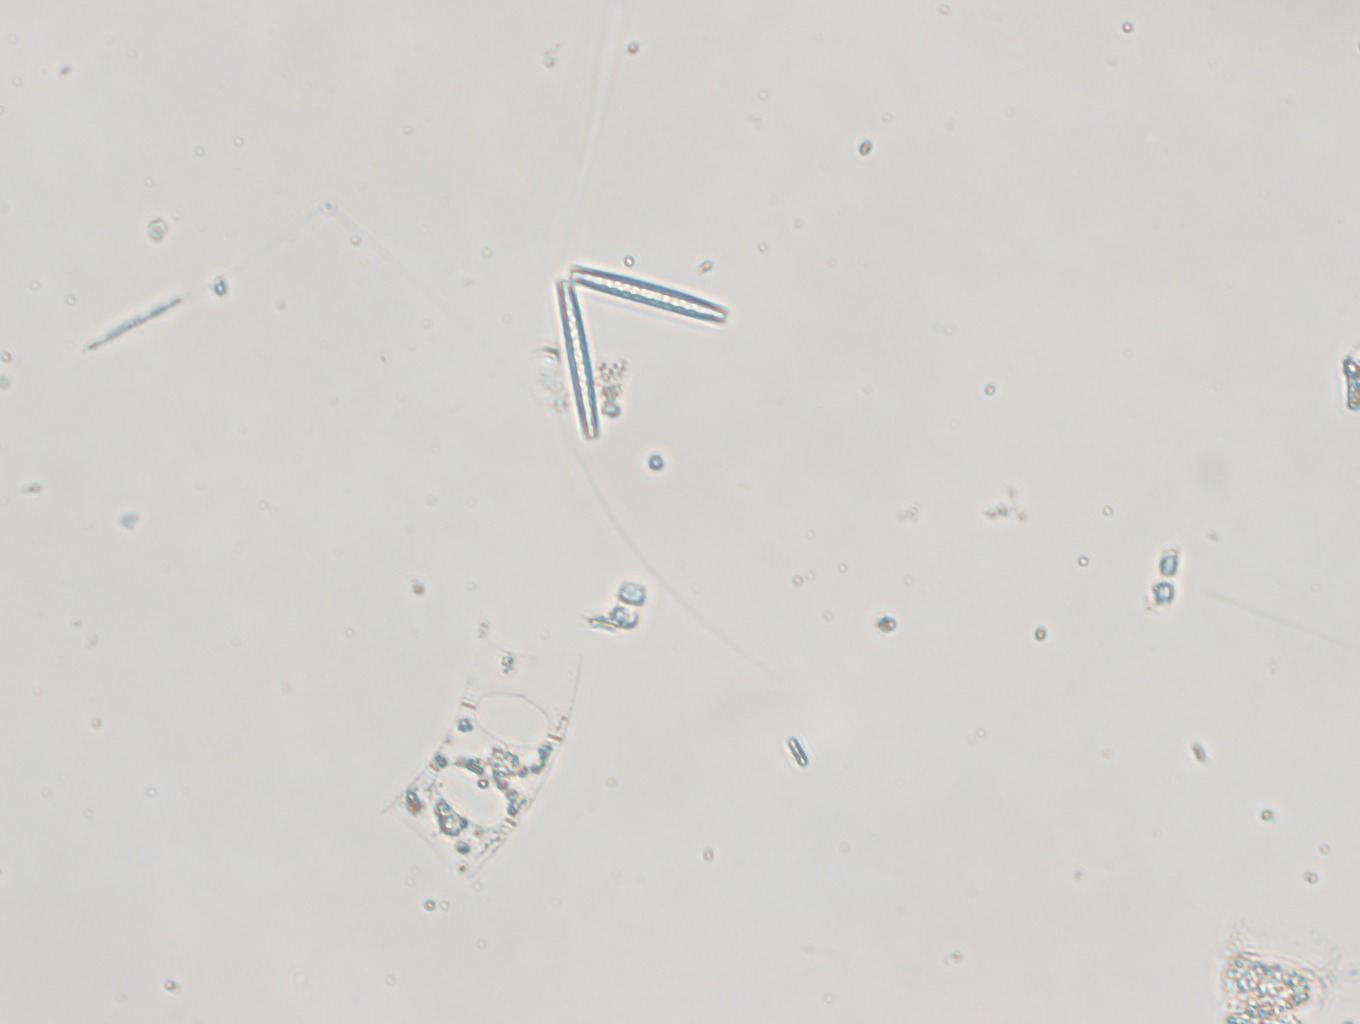eucampia: (376, 622, 584, 884)
thalassionema nitzschioides: (554, 264, 727, 444)
